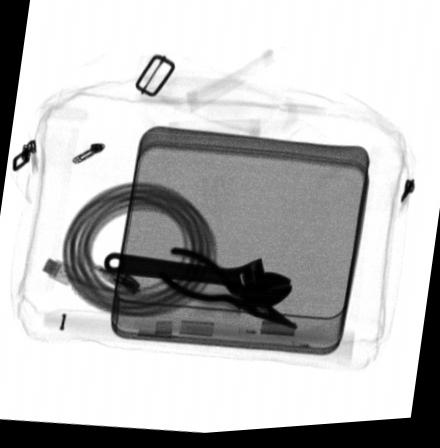Pliers: (160, 248, 298, 336)
Wrench: (103, 255, 291, 313)
